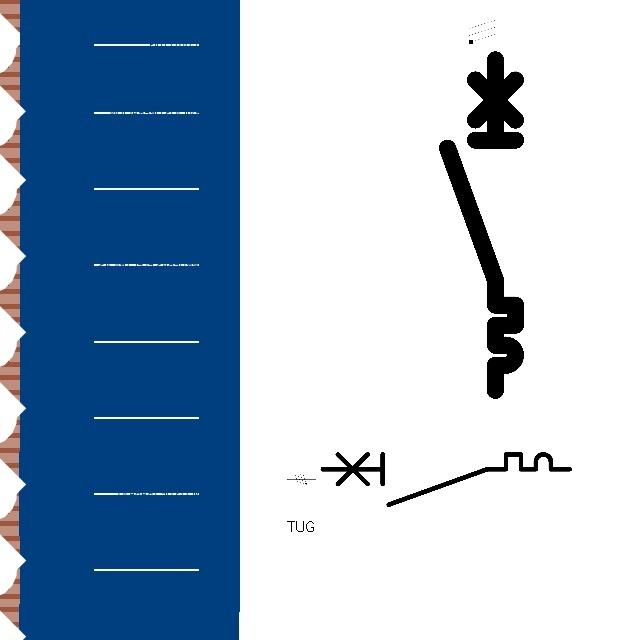interruptor_termomagnetico: (439, 51, 524, 398), (316, 448, 576, 511)
